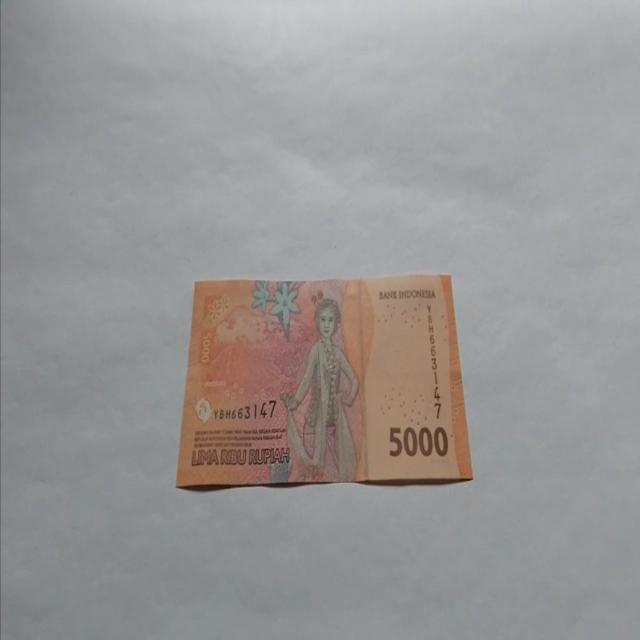lima ribu rupiah: (175, 272, 473, 490), (279, 296, 361, 483)
